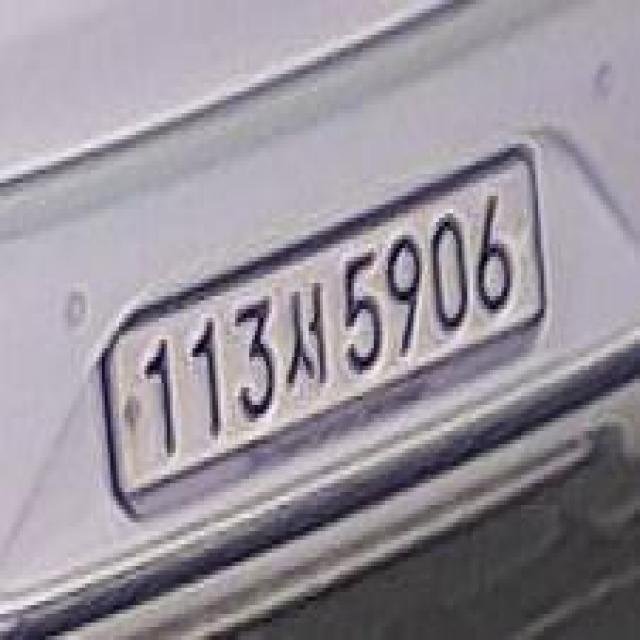illegal_plate: (95, 149, 552, 524)
